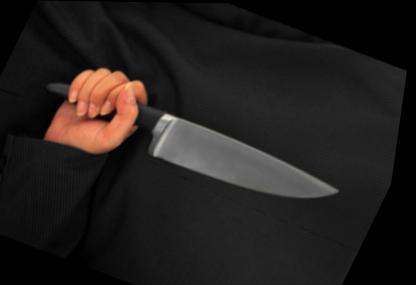knife: (39, 53, 375, 235)
